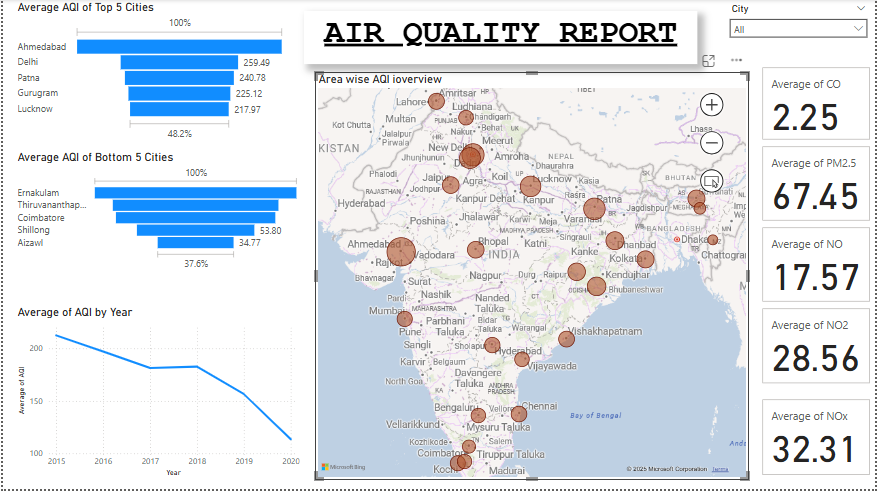

The page's visual inventory and layout, read from the dashboard file:
{"tool":"powerbi","page":{"name":"Page 1","canvas":[1280,720],"ordinal":0},"visuals":[{"type":"lineChart","fields":{"Category":["city_day.Date.Variation.Date Hierarchy.Year","city_day.Date.Variation.Date Hierarchy.Quarter","city_day.Date.Variation.Date Hierarchy.Month","city_day.Date.Variation.Date Hierarchy.Day"],"Y":["Avg(city_day.AQI)"]},"box":[16.2,449.6,424.7,257.1],"z":0},{"type":"slicer","fields":{"Values":["city_day.City"]},"box":[1058,2,222,68],"z":1000},{"type":"funnel","title":"Average AQI of Top 5 Cities","fields":{"Category":["city_day.City"],"Y":["Avg(city_day.AQI)"]},"box":[16.7,1.7,403.3,210],"z":2000},{"type":"funnel","title":"Average AQI of Bottom 5 Cities","fields":{"Category":["city_day.City"],"Y":["Avg(city_day.AQI)"]},"box":[16.7,221.7,425,180],"z":3000},{"type":"cardVisual","fields":{"Data":["Avg(city_day.CO)"]},"box":[1110.9,95.5,169,116.1],"z":4000},{"type":"cardVisual","fields":{"Data":["Avg(city_day.NO)"]},"box":[1110.9,330.6,169,119],"z":5000},{"type":"cardVisual","fields":{"Data":["Avg(city_day.NO2)"]},"box":[1110.9,449.6,169,120.5],"z":6000},{"type":"cardVisual","fields":{"Data":["Avg(city_day.NOx)"]},"box":[1110.9,583.3,169,122],"z":7000},{"type":"cardVisual","fields":{"Data":["Avg(city_day.PM2.5)"]},"box":[1110.9,211.6,169,119],"z":8000},{"type":"map","title":"Area wise AQI ioverview","fields":{"Category":["city_day.City"],"Size":["Avg(city_day.AQI)"]},"box":[458.4,107.3,637.7,599.5],"z":9000},{"type":"textbox","box":[441.7,18.3,578.3,78.3],"z":10000}]}

Visuals, with their boxes in screenshot pixels (x1, y1, x2, y2), scaled from the page's 1280x720 canvas onto the 877x492 screenshot:
lineChart - city_day.Date.Variation.Date Hierarchy.Year x city_day.Date.Variation.Date Hierarchy.Quarter: BBox(11, 307, 302, 483)
slicer - city_day.City: BBox(725, 1, 876, 48)
"Average AQI of Top 5 Cities" funnel: BBox(11, 1, 288, 145)
"Average AQI of Bottom 5 Cities" funnel: BBox(11, 151, 303, 274)
cardVisual - Avg(city_day.CO): BBox(761, 65, 876, 145)
cardVisual - Avg(city_day.NO): BBox(761, 226, 876, 307)
cardVisual - Avg(city_day.NO2): BBox(761, 307, 876, 390)
cardVisual - Avg(city_day.NOx): BBox(761, 399, 876, 482)
cardVisual - Avg(city_day.PM2.5): BBox(761, 145, 876, 226)
"Area wise AQI ioverview" map: BBox(314, 73, 751, 483)
textbox: BBox(303, 13, 699, 66)
